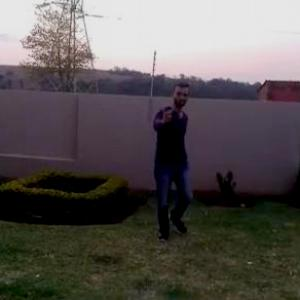takeoff-hand: (157, 101, 175, 126)
